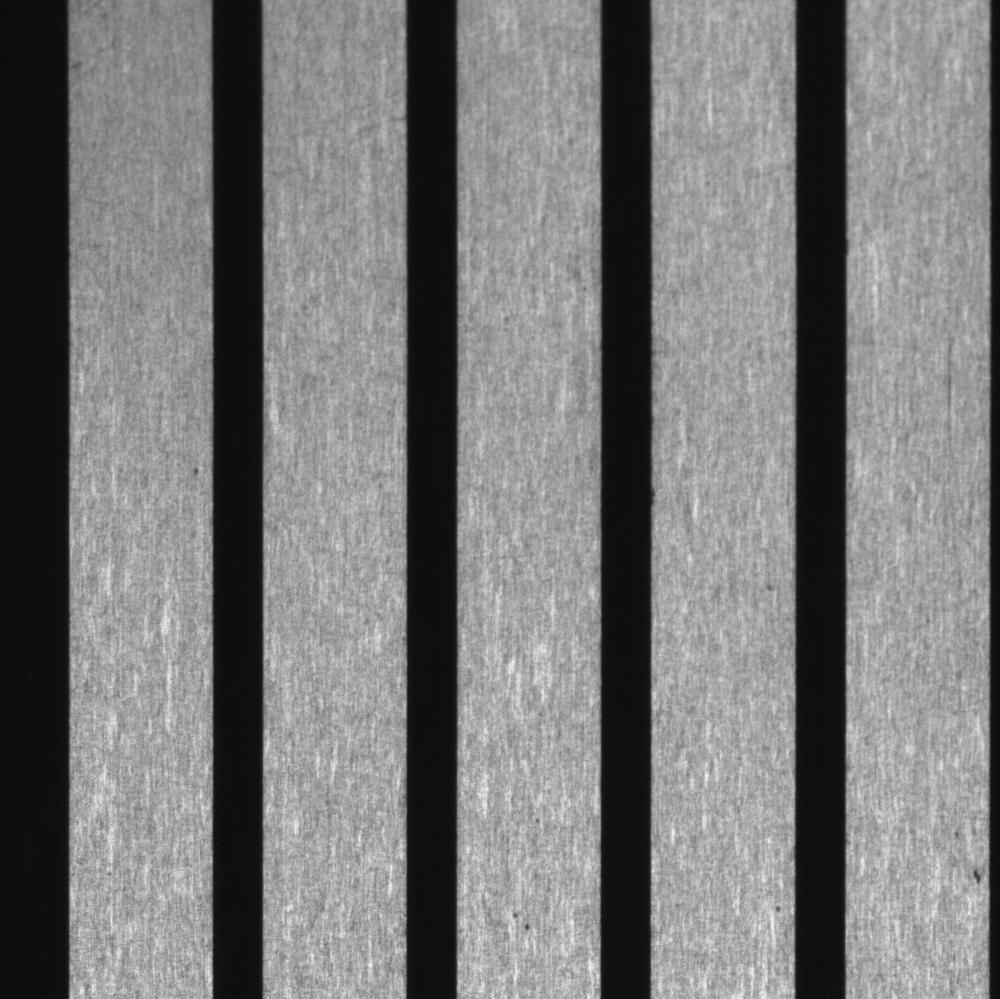Etching: (954, 816, 988, 903)
Pinhole: (177, 448, 210, 489), (520, 911, 536, 937), (506, 903, 522, 924)
Scar: (517, 382, 595, 519), (276, 113, 399, 182), (933, 325, 971, 452)
